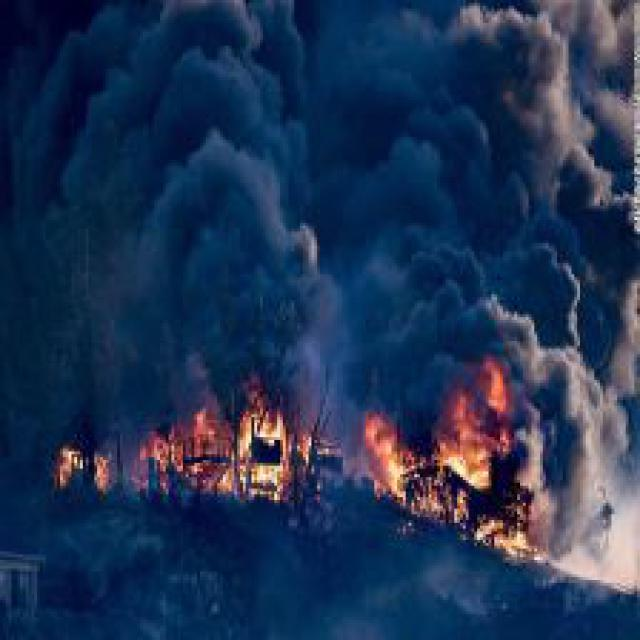fire: (49, 368, 348, 512), (363, 337, 543, 560)
